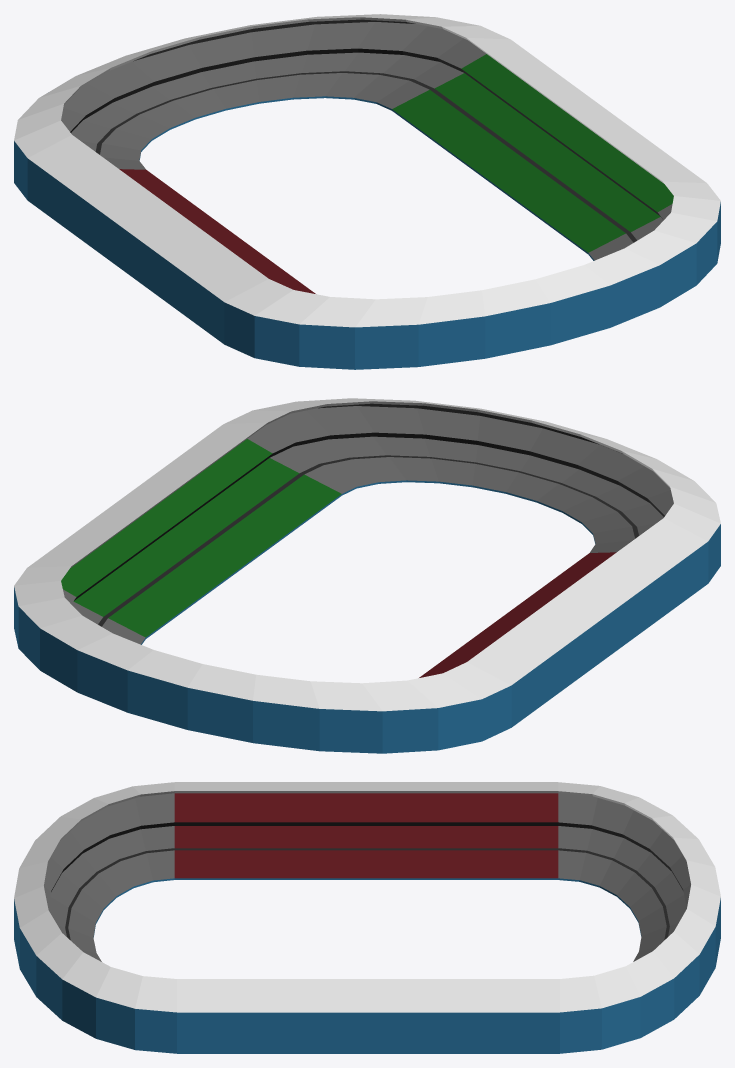
File: stadium.fbx
The picture shows the model from 3 angles, top to bottom: view 1: azimuth 30°, elevation 25°; view 2: azimuth 150°, elevation 25°; view 3: azimuth 270°, elevation 25°; orthographic projection. The views are drawn at different scales.
Parts seen in each view (by area): view 1: Cube; view 2: Cube; view 3: Cube.
Boxes of the visible parts, x1=… form: Cube: x1=14, y1=14, x2=720, y2=369; Cube: x1=14, y1=398, x2=720, y2=753; Cube: x1=14, y1=782, x2=720, y2=1053.
Bounding box in the file's own units: 6234 × 676 × 8086.
